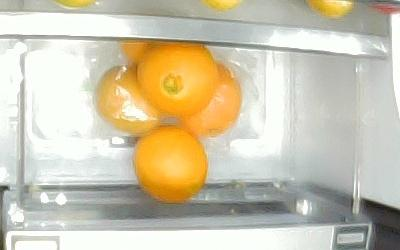orange: (137, 43, 218, 116), (133, 125, 209, 202)
orange_vinyl: (96, 65, 164, 136), (178, 63, 242, 138)
